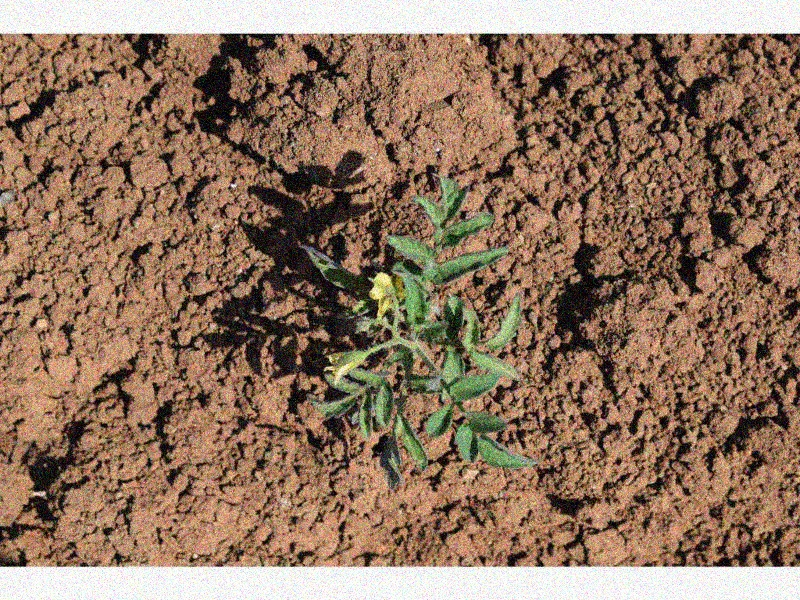tomato: (305, 168, 543, 491)
